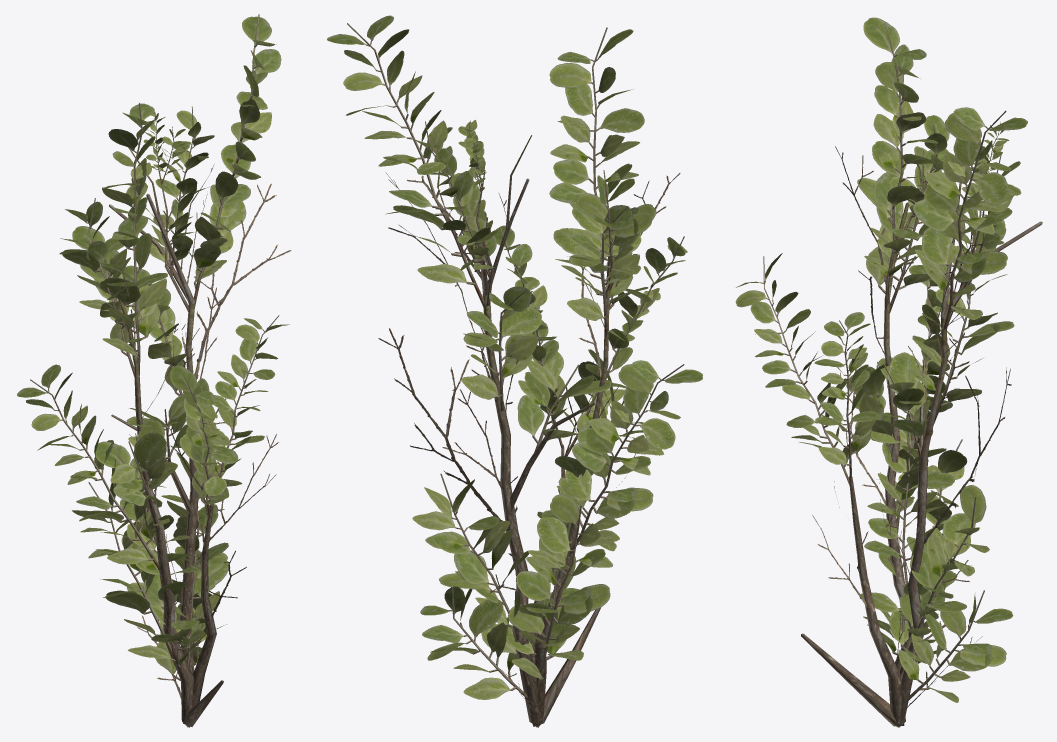
3 renders of one model, left to right at view 1: azimuth 30°, elevation 25°; view 2: azimuth 150°, elevation 25°; view 3: azimuth 270°, elevation 25°, orthographic. The views are drawn at different scales.
Visible parts, largest first — view 1: searsia_lucida__d_lod0; view 2: searsia_lucida__d_lod0; view 3: searsia_lucida__d_lod0.
Part boxes in pixels (x1,y1,x2,y2): searsia_lucida__d_lod0: (17,14,291,727); searsia_lucida__d_lod0: (327,15,702,727); searsia_lucida__d_lod0: (735,17,1042,727).
Size of the model in its own units: 0.3817 by 0.7868 by 0.3249.
2 materials, 2 textured.
